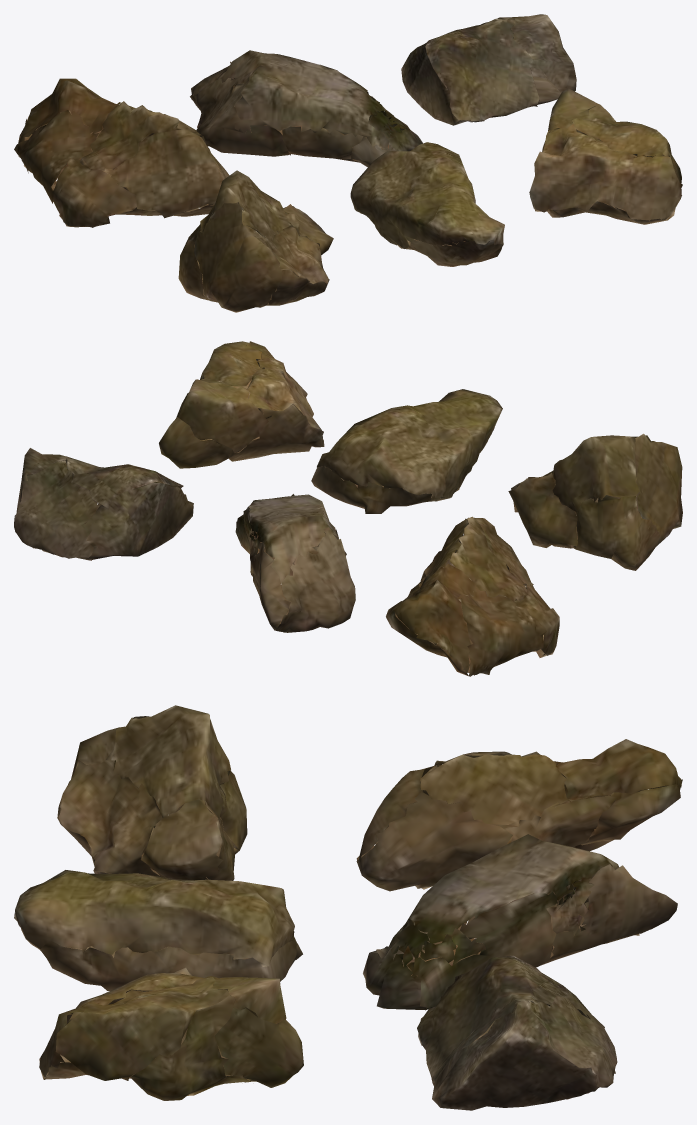
Rendered from rock_moss_set_01.glb.
3 renders of one model, top to bottom at view 1: azimuth 30°, elevation 25°; view 2: azimuth 150°, elevation 25°; view 3: azimuth 270°, elevation 25°, orthographic. The views are drawn at different scales.
Visible parts, largest first — view 1: rock_moss_set_01_rock01; view 2: rock_moss_set_01_rock01; view 3: rock_moss_set_01_rock01.
Part boxes in pixels (<box>): rock_moss_set_01_rock01: <box>14,14,682,312</box>; rock_moss_set_01_rock01: <box>14,341,682,676</box>; rock_moss_set_01_rock01: <box>14,705,682,1110</box>.
Bounding box in the file's own units: 8.04 × 1.76 × 6.95.
Materials: 1 (1 with a texture image).
